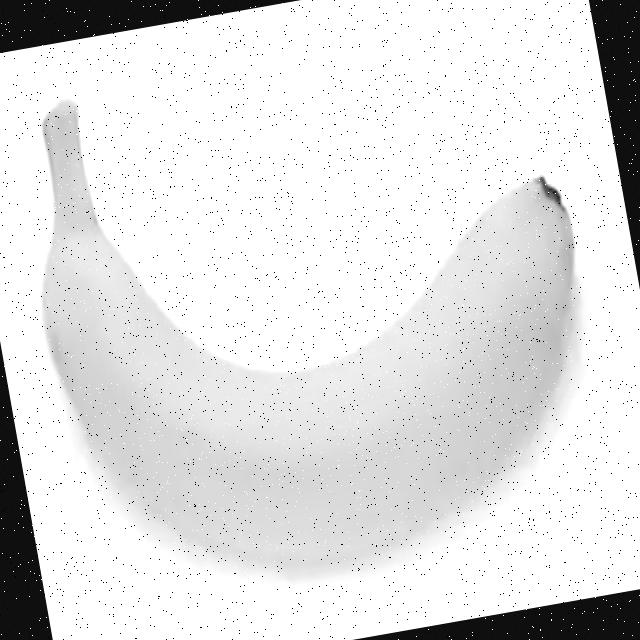banana: (4, 13, 622, 601)
